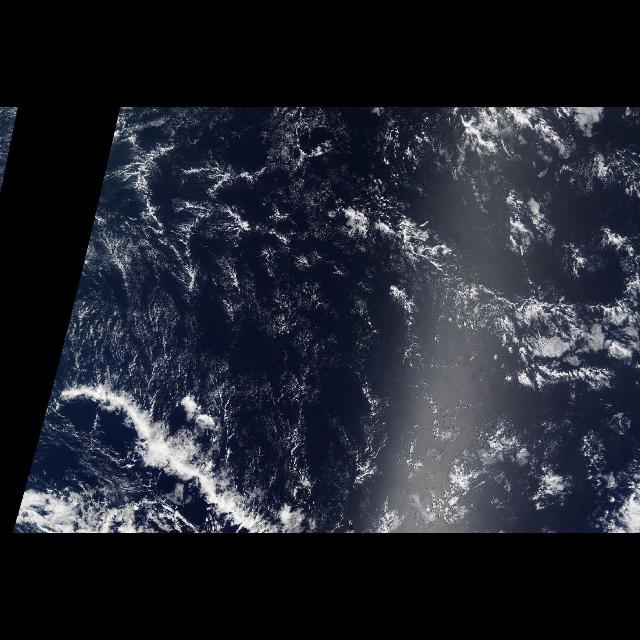Fish: (64, 368, 310, 530)
Gravel: (121, 136, 299, 316)
Sugar: (92, 271, 422, 383)
